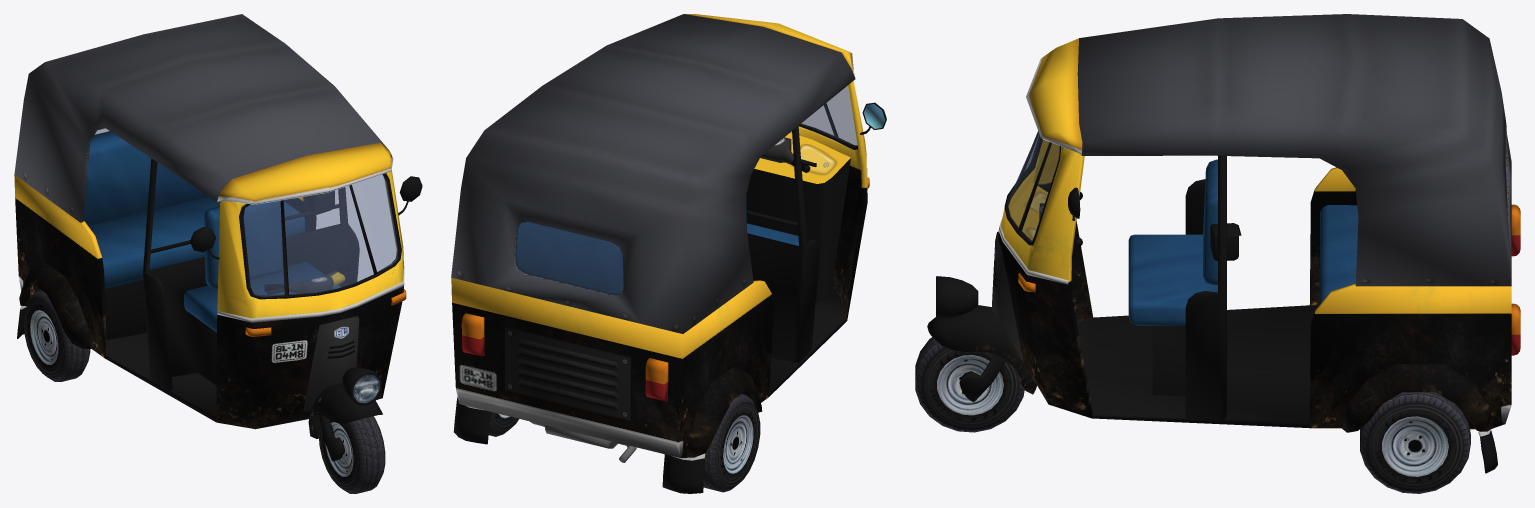
Rendered from autorickshaw_aka_tuktuk.glb.
The picture shows the model from 3 angles, left to right: view 1: azimuth 30°, elevation 25°; view 2: azimuth 150°, elevation 25°; view 3: azimuth 270°, elevation 25°; orthographic projection. The views are drawn at different scales.
Visible parts, largest first — view 1: Plane.001_3, Plane_2, Cylinder_4, Plane.003_10, Cylinder.001_5, Plane.005_12, Plane.004_11, Plane.010_18, Cylinder.002_6, Sphere_7, Plane.006_13, Cylinder.003_9 (+2 smaller); view 2: Plane.001_3, Plane_2, Cylinder_4, Plane.002_8, Plane.003_10, Cylinder.001_5, Plane.004_11, Plane.012_21, Plane.006_13, Plane.005_12, Plane.008_15, Cylinder.003_9; view 3: Plane.001_3, Plane_2, Cylinder_4, Cylinder.001_5, Plane.004_11, Plane.005_12, Cylinder.002_6, Plane.003_10, Sphere_7, Plane.006_13, Plane.010_18, Plane.002_8 (+1 smaller).
Boxes of the visible parts, left/top/right/bottom form: Plane.001_3: left=14, top=14, right=388, bottom=222; Plane_2: left=14, top=170, right=403, bottom=429; Cylinder_4: left=83, top=131, right=359, bottom=390; Plane.003_10: left=95, top=128, right=398, bottom=296; Cylinder.001_5: left=23, top=290, right=385, bottom=493; Plane.005_12: left=217, top=143, right=393, bottom=204; Plane.004_11: left=19, top=262, right=90, bottom=349; Plane.010_18: left=239, top=173, right=401, bottom=299; Cylinder.002_6: left=308, top=383, right=382, bottom=438; Sphere_7: left=315, top=367, right=381, bottom=461; Plane.006_13: left=190, top=176, right=422, bottom=336; Cylinder.003_9: left=264, top=264, right=358, bottom=294; Plane.001_3: left=451, top=14, right=855, bottom=333; Plane_2: left=451, top=81, right=867, bottom=457; Cylinder_4: left=516, top=126, right=819, bottom=362; Plane.002_8: left=746, top=133, right=850, bottom=301; Plane.003_10: left=516, top=86, right=857, bottom=294; Cylinder.001_5: left=488, top=393, right=760, bottom=492; Plane.004_11: left=687, top=367, right=762, bottom=457; Plane.012_21: left=453, top=396, right=705, bottom=493; Plane.006_13: left=461, top=102, right=886, bottom=401; Plane.005_12: left=685, top=14, right=855, bottom=77; Plane.008_15: left=529, top=421, right=636, bottom=462; Cylinder.003_9: left=760, top=137, right=816, bottom=172; Plane.001_3: left=1077, top=14, right=1511, bottom=286; Plane_2: left=991, top=139, right=1511, bottom=429; Cylinder_4: left=1128, top=156, right=1358, bottom=420; Cylinder.001_5: left=915, top=337, right=1470, bottom=493; Plane.004_11: left=1342, top=364, right=1491, bottom=432; Plane.005_12: left=1026, top=38, right=1082, bottom=155; Cylinder.002_6: left=927, top=305, right=1036, bottom=394; Plane.003_10: left=1008, top=132, right=1059, bottom=241; Sphere_7: left=936, top=276, right=1011, bottom=402; Plane.006_13: left=1018, top=187, right=1520, bottom=355; Plane.010_18: left=1004, top=131, right=1061, bottom=245; Plane.002_8: left=1011, top=182, right=1072, bottom=299.
Bounding box in the file's own units: 1.64 × 1.98 × 2.97.
4 materials, 3 textured.
